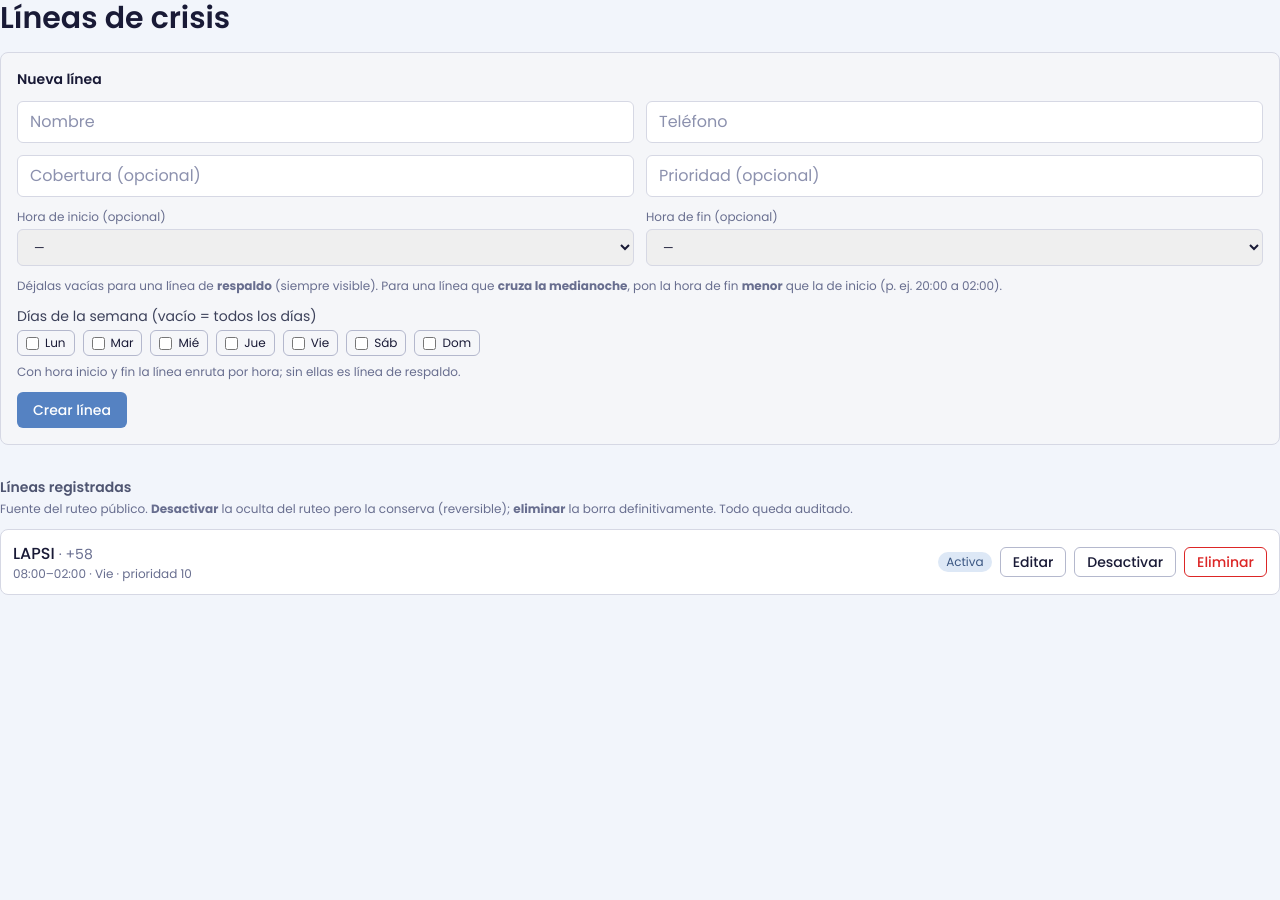
Test case: CrisisLinesAdmin › pre-fills the day checkboxes when editing an existing line
Click the button "Editar": (1033, 562) [1000,547,1066,577]
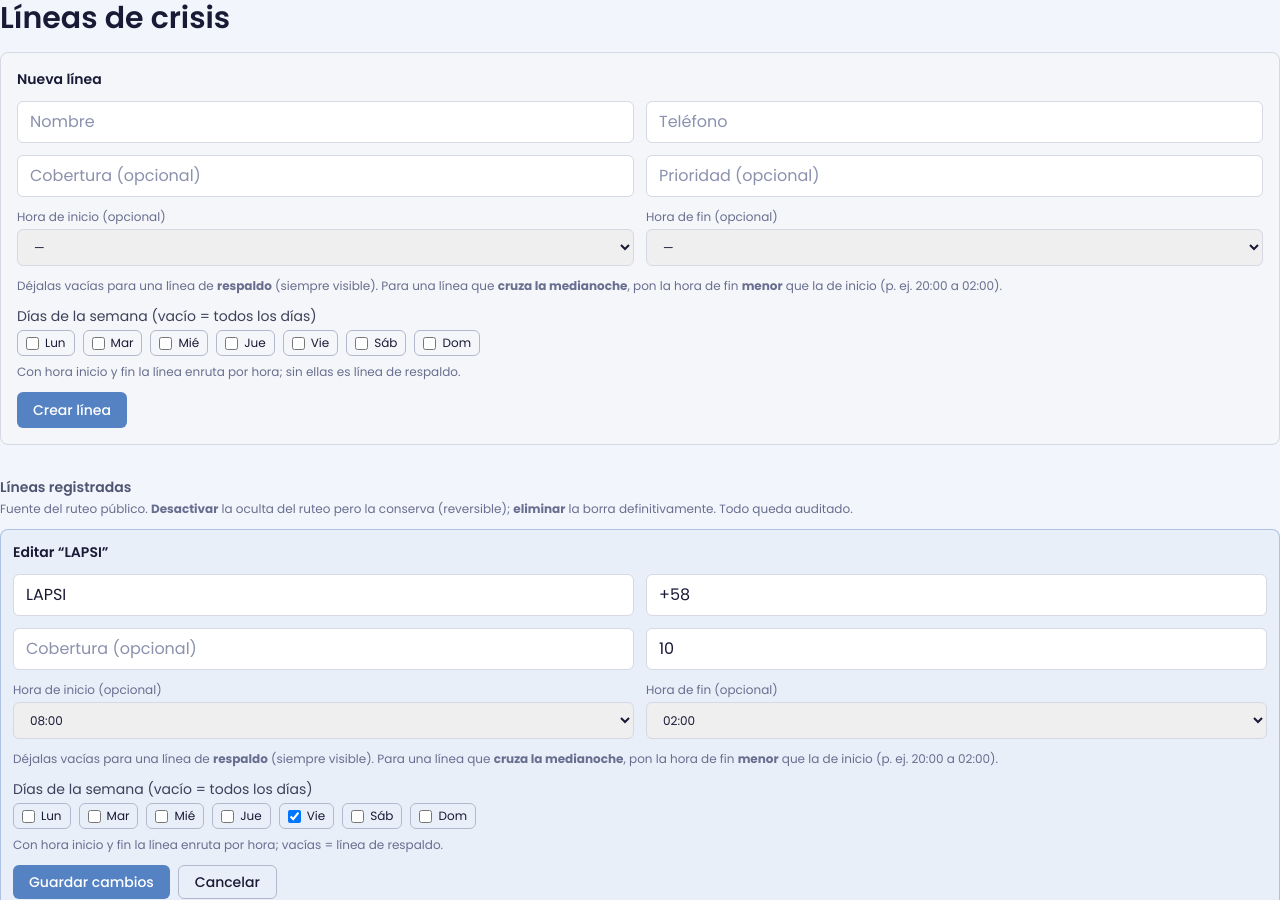
Expected: the checkbox labelled "Vie" below "Editar “" is checked, [288,810,301,822]
Expected: the checkbox labelled "Lun" below "Editar “" is not checked, [22,810,35,822]
